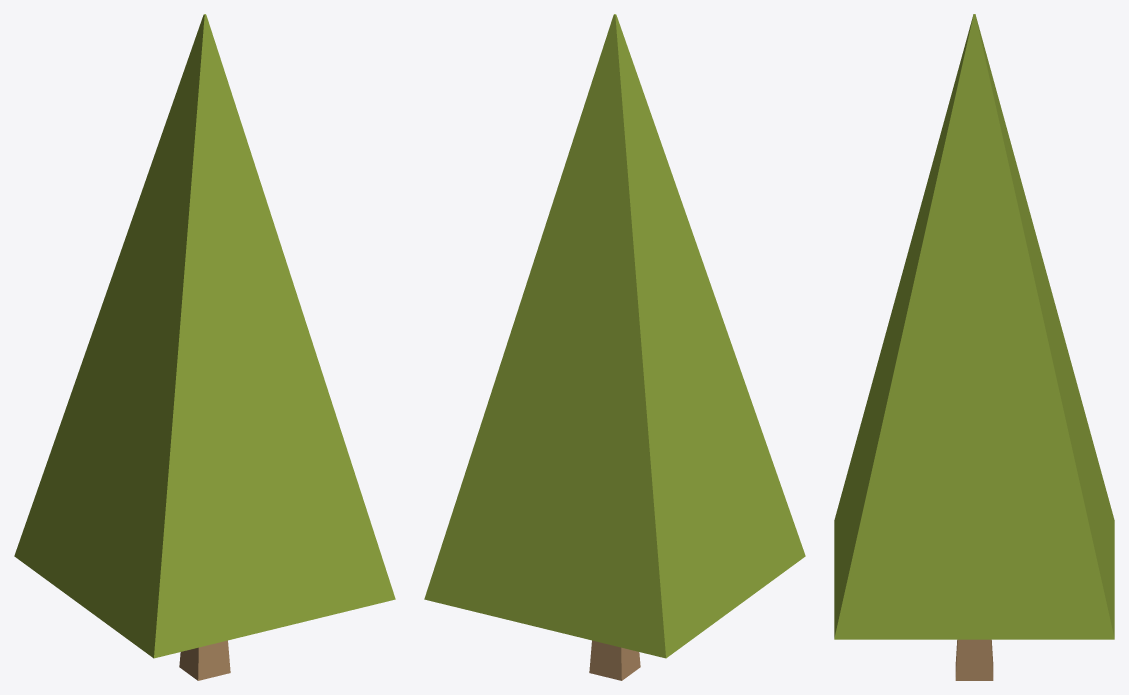
Rendered from RC_Tree002.fbx.
3 views of the same model, side by side, from view 1: azimuth 30°, elevation 25°; view 2: azimuth 150°, elevation 25°; view 3: azimuth 270°, elevation 25° (orthographic).
Visible parts, largest first — view 1: Tree_02; view 2: Tree_02; view 3: Tree_02.
Boxes of the visible parts, x1,y1,x2,y2 form: Tree_02: [14, 14, 395, 680]; Tree_02: [424, 14, 805, 680]; Tree_02: [834, 14, 1114, 680].
Size of the model in its own units: 181 by 467 by 181.
